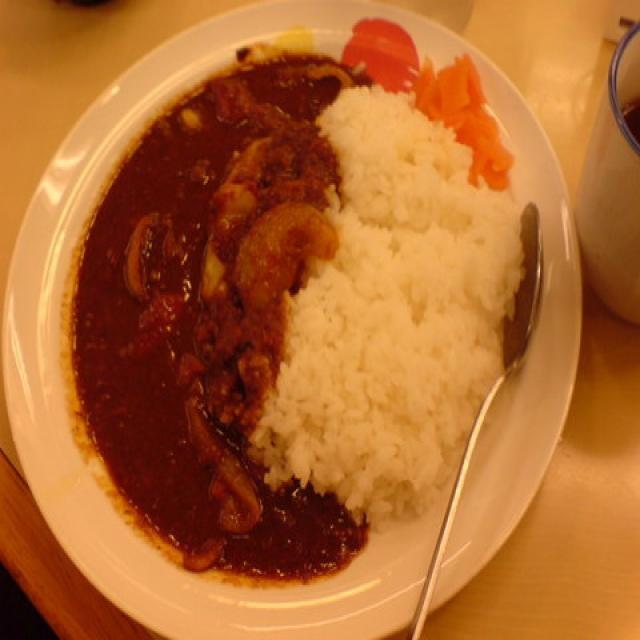Beef Curry: (70, 49, 326, 564)
Rice: (333, 105, 504, 495)
